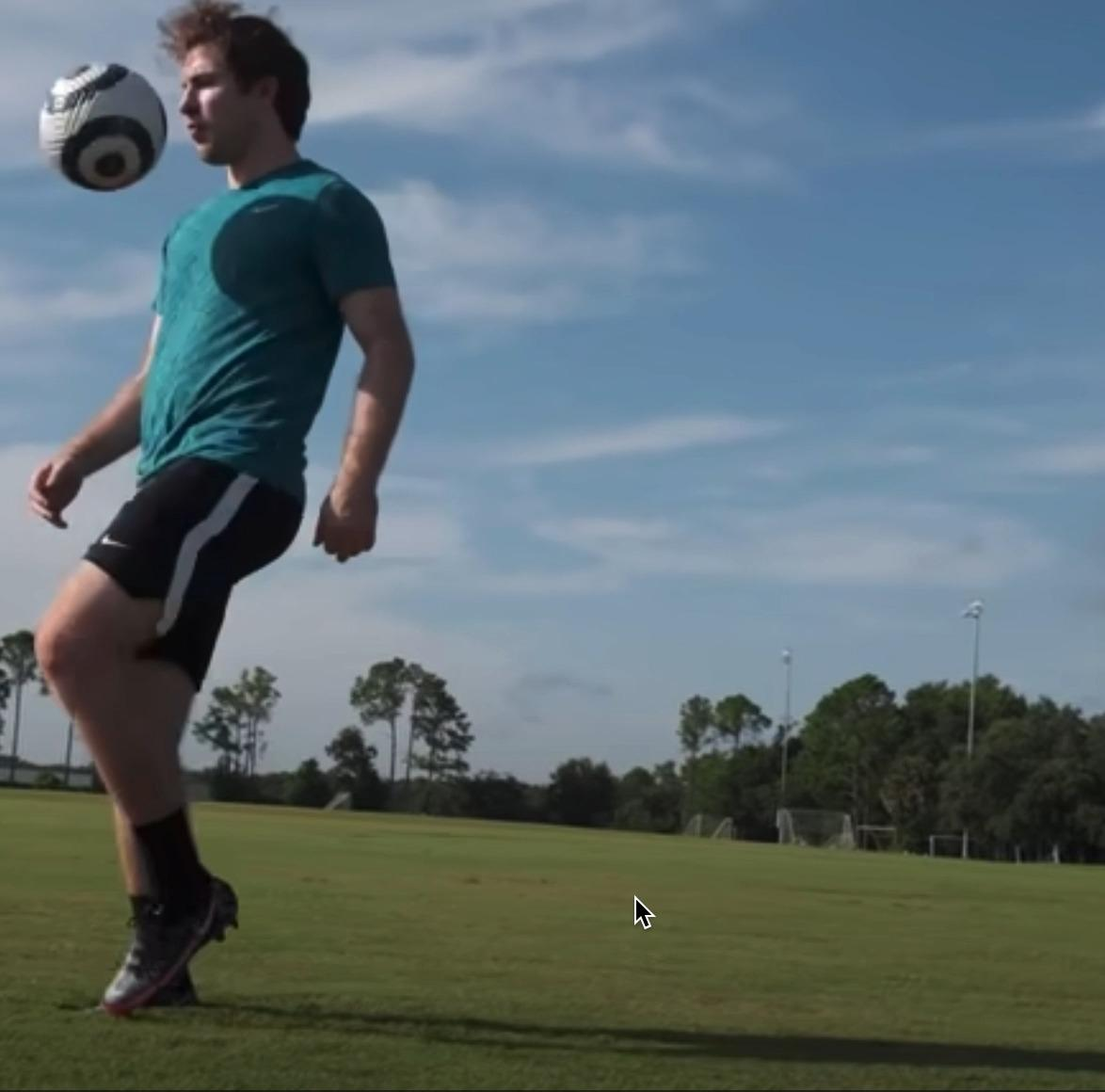ball: (36, 60, 169, 190)
foot: (100, 871, 237, 1010)
person: (0, 2, 416, 1005)
